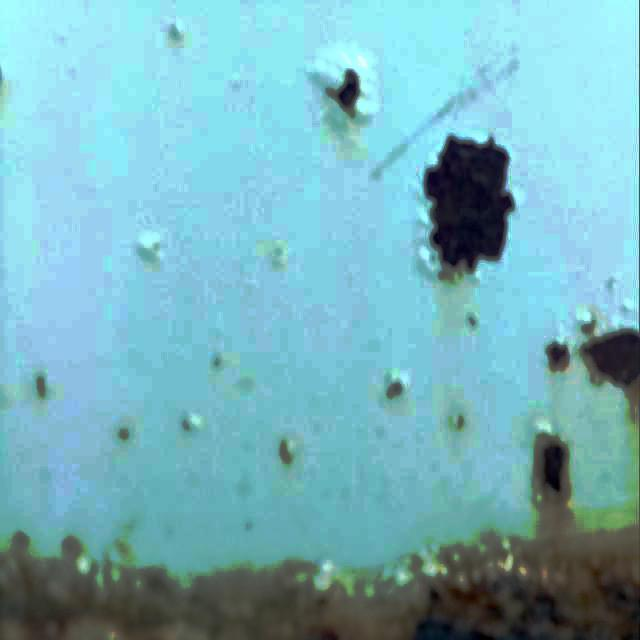Corrosion: (0, 540, 640, 640), (427, 137, 514, 270), (585, 333, 640, 386), (540, 441, 568, 499), (338, 71, 358, 107), (549, 344, 569, 368), (387, 381, 404, 398)
